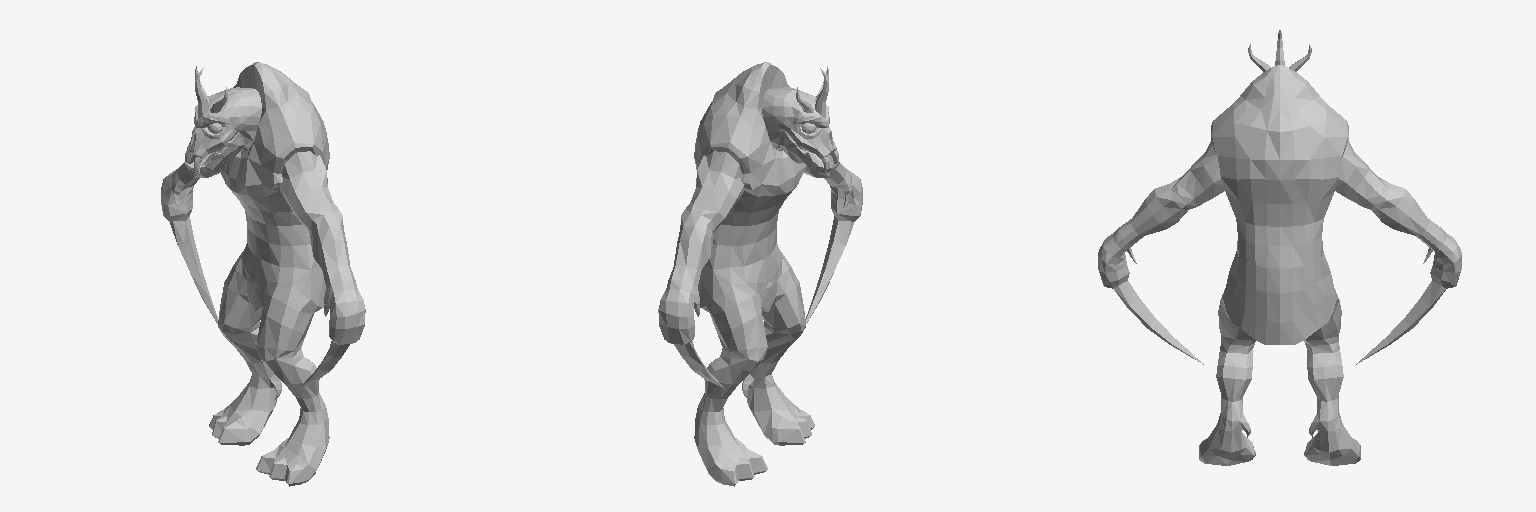
File: monster.obj
3 views of the same model, side by side, from view 1: azimuth 30°, elevation 25°; view 2: azimuth 150°, elevation 25°; view 3: azimuth 270°, elevation 25° (orthographic).
Parts seen in each view (by area): view 1: the_monster; view 2: the_monster; view 3: the_monster.
Part boxes in pixels (left/top/right/bottom): the_monster: left=161, top=62, right=365, bottom=486; the_monster: left=658, top=62, right=862, bottom=486; the_monster: left=1098, top=30, right=1461, bottom=465.
Bounding box in the file's own units: 0.9352 × 2.5 × 2.04.